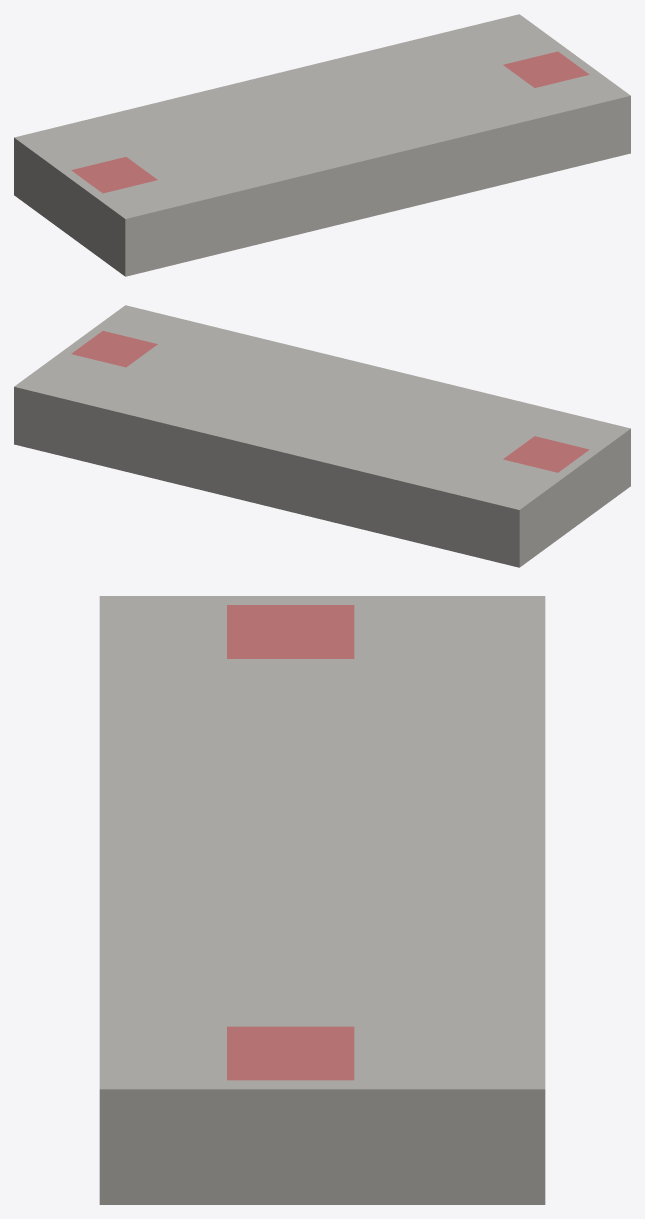
File: step_02.glb
The picture shows the model from 3 angles, top to bottom: view 1: azimuth 30°, elevation 25°; view 2: azimuth 150°, elevation 25°; view 3: azimuth 270°, elevation 25°; orthographic projection. The views are drawn at different scales.
Visible parts, largest first — view 1: part__cill, removed__cill; view 2: part__cill, removed__cill; view 3: part__cill, removed__cill.
Part boxes in pixels (x1,y1,x2,y2): part__cill: (14, 14, 630, 276); removed__cill: (71, 51, 589, 193); part__cill: (14, 305, 630, 567); removed__cill: (71, 331, 589, 472); part__cill: (99, 596, 545, 1204); removed__cill: (227, 605, 354, 1080).
Bounding box in the file's own units: 5500 × 600 × 2100.
